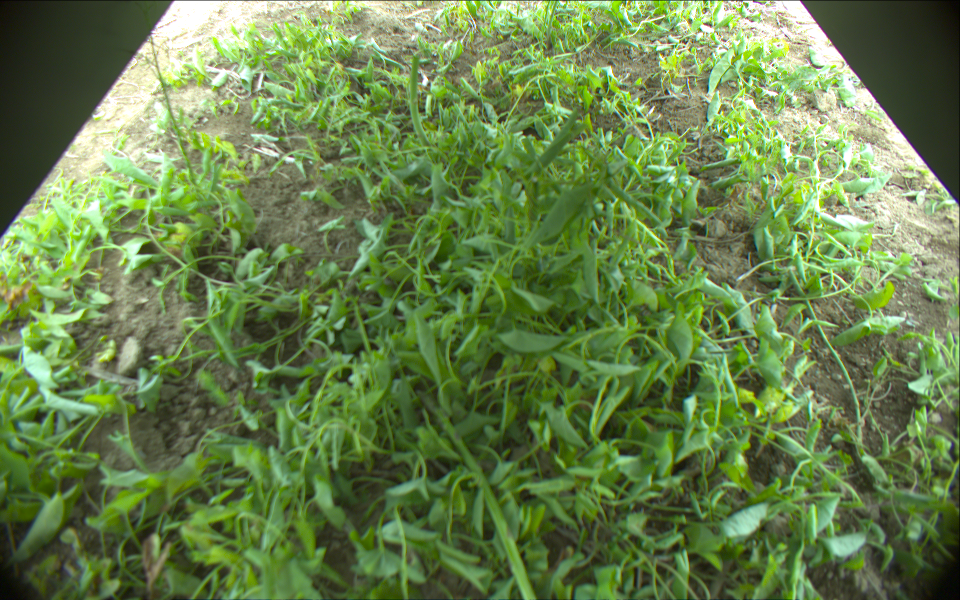aspa: (412, 386, 539, 600), (407, 55, 430, 148)
